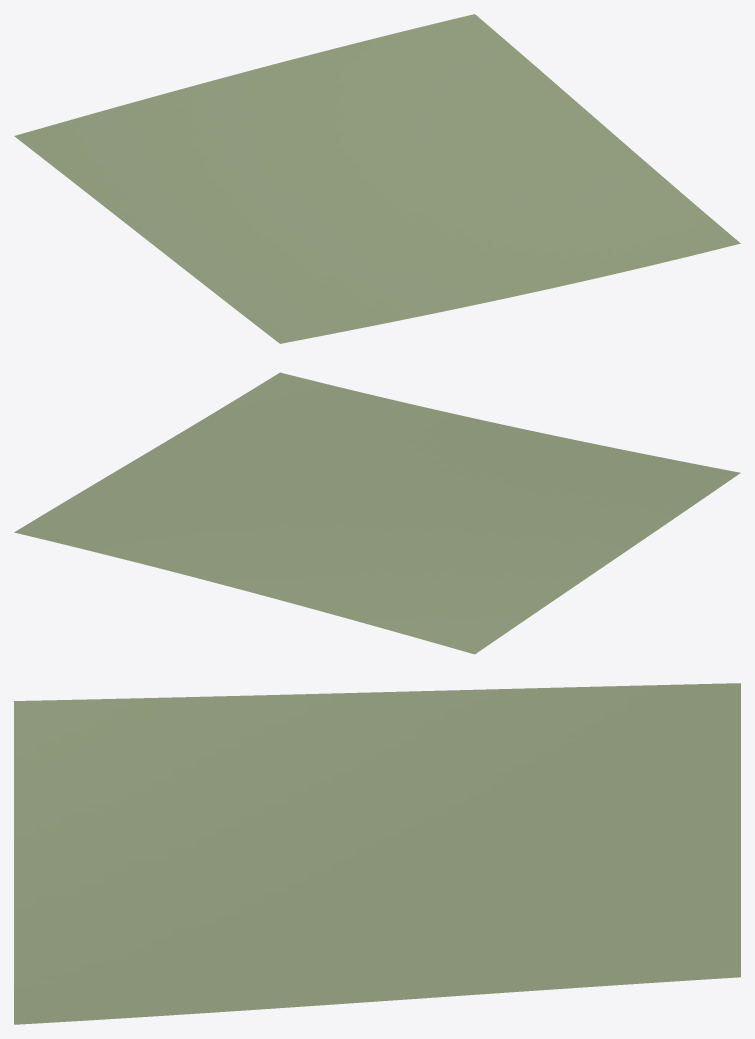
File: canyon-5-1.glb
The picture shows the model from 3 angles, top to bottom: view 1: azimuth 30°, elevation 25°; view 2: azimuth 150°, elevation 25°; view 3: azimuth 270°, elevation 25°; orthographic projection. The views are drawn at different scales.
Visible parts, largest first — view 1: canyon-5-1; view 2: canyon-5-1; view 3: canyon-5-1.
Boxes of the visible parts, x1,y1,x2,y2 form: canyon-5-1: (14, 14, 740, 343); canyon-5-1: (14, 372, 740, 654); canyon-5-1: (14, 683, 740, 1024).
Size of the model in its own units: 128 by 9.32 by 128.
